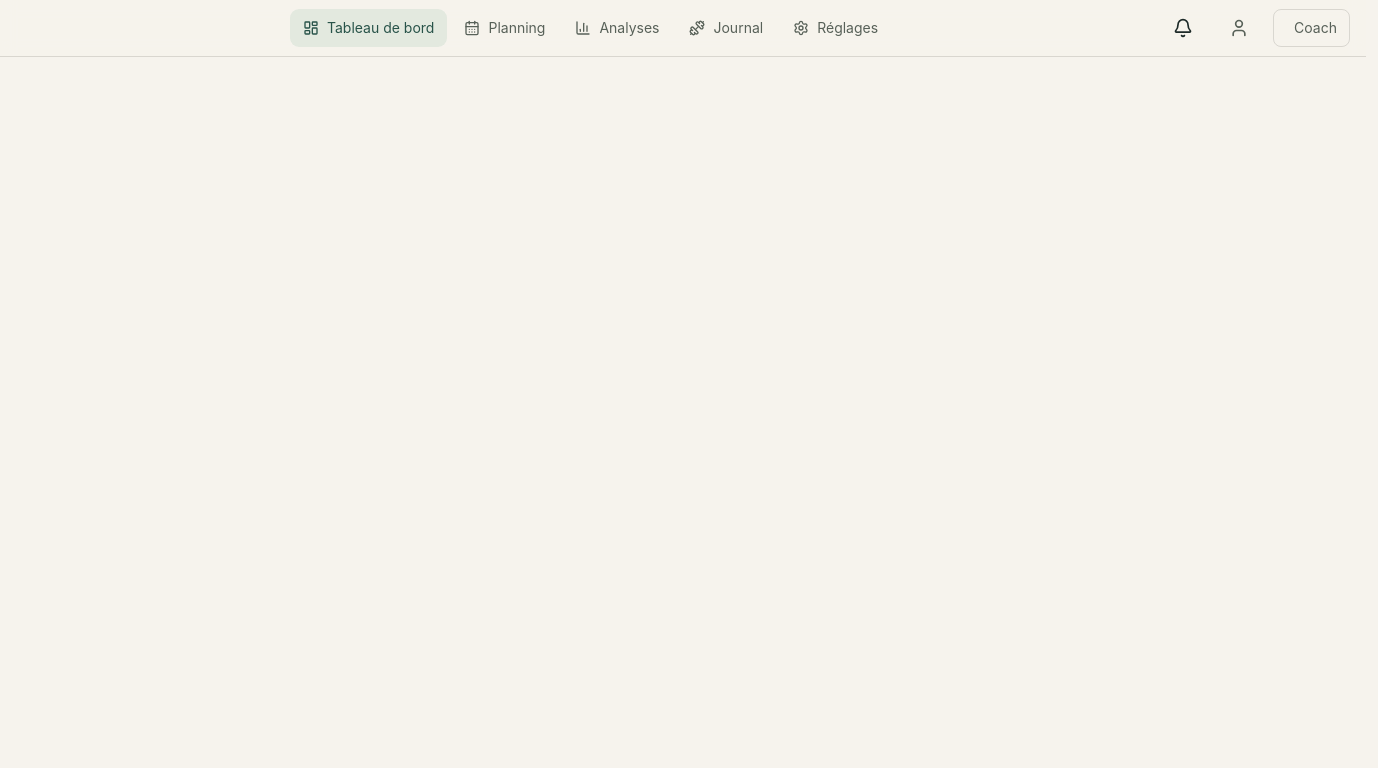
Test: asks the same question again on retry, without the failed answer
This screenshot has width=1378, height=768.
Click the button with aria-label "Ouvrir le coach": (1312, 28) [1273,9,1350,47]
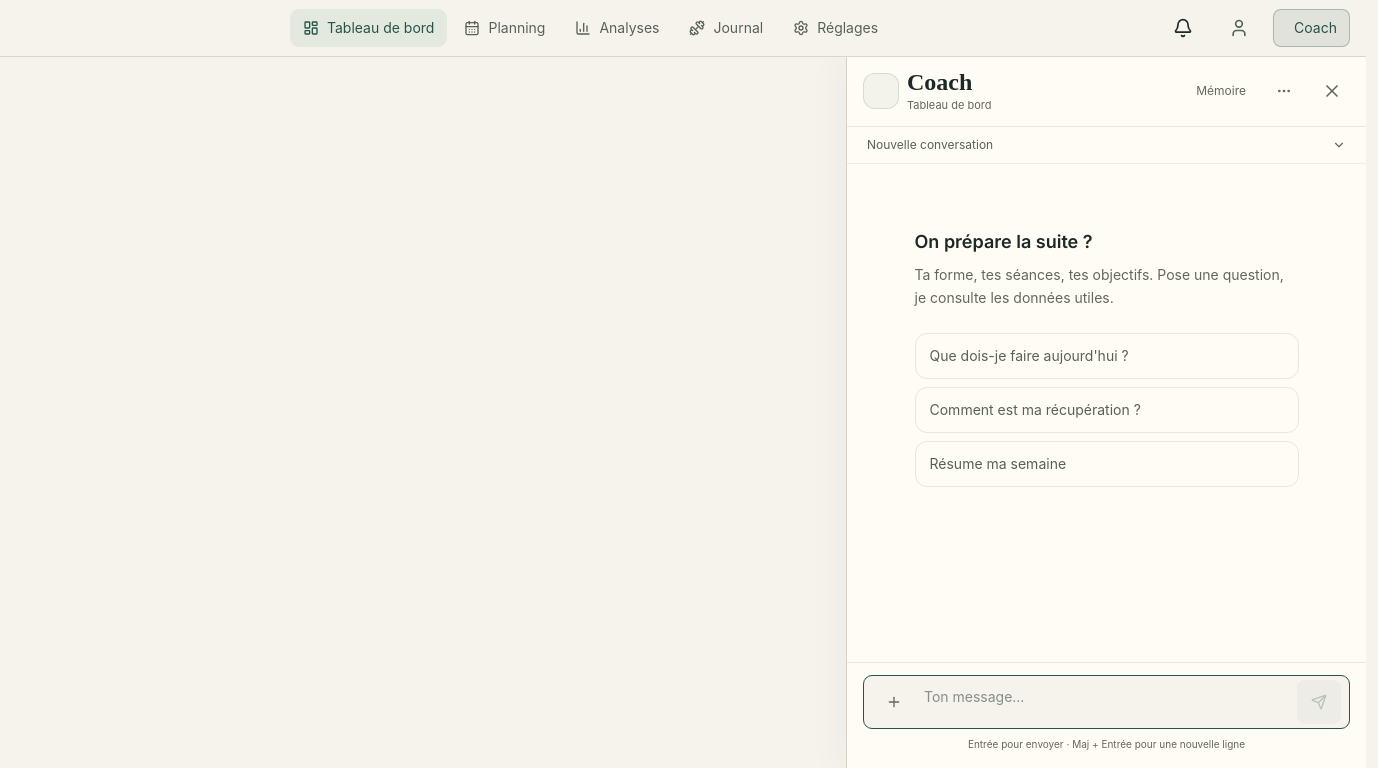
In the text box named "Message au coach": (1104, 702) [920,680,1289,724], type "Ma forme ?"
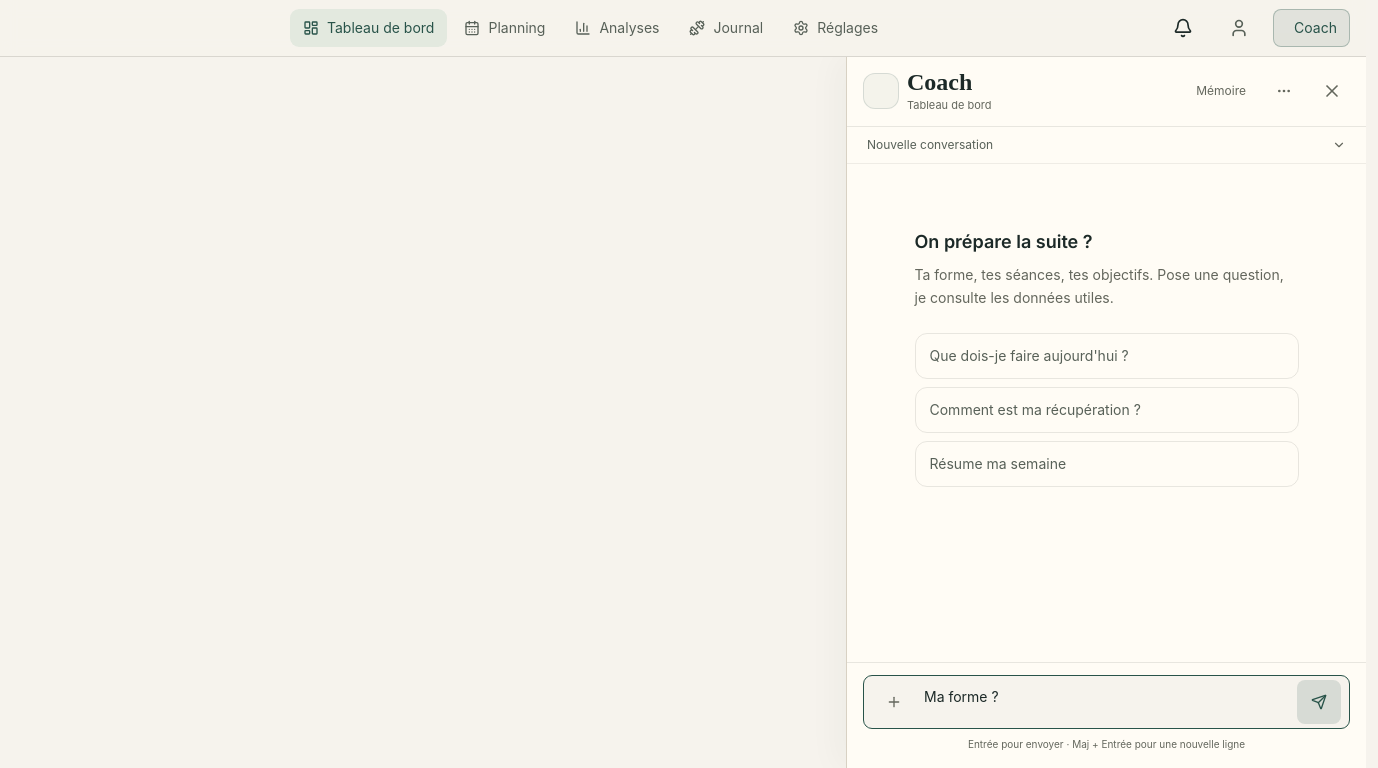
Click the button named "Envoyer": (1319, 702) [1297,680,1341,724]
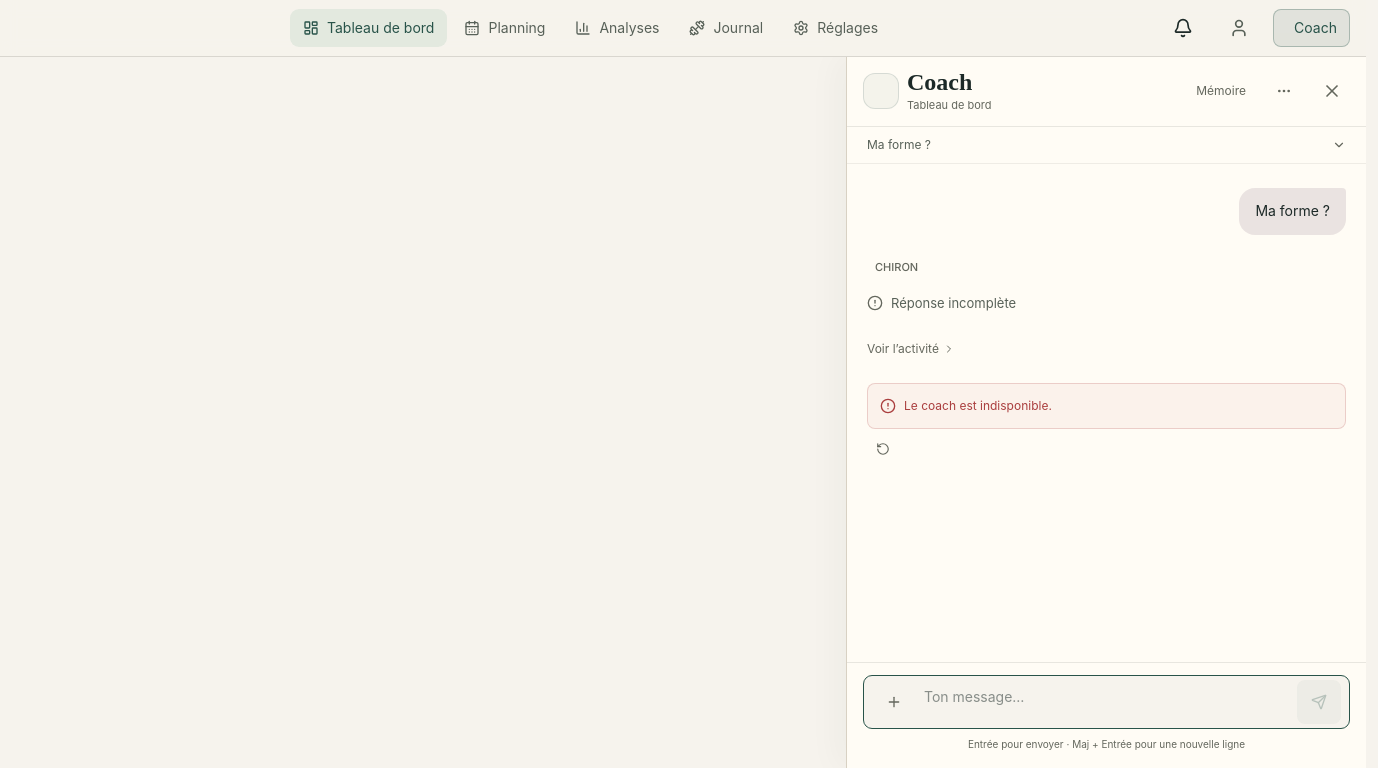
Click the button named "Réessayer": (883, 449) [867,433,899,465]
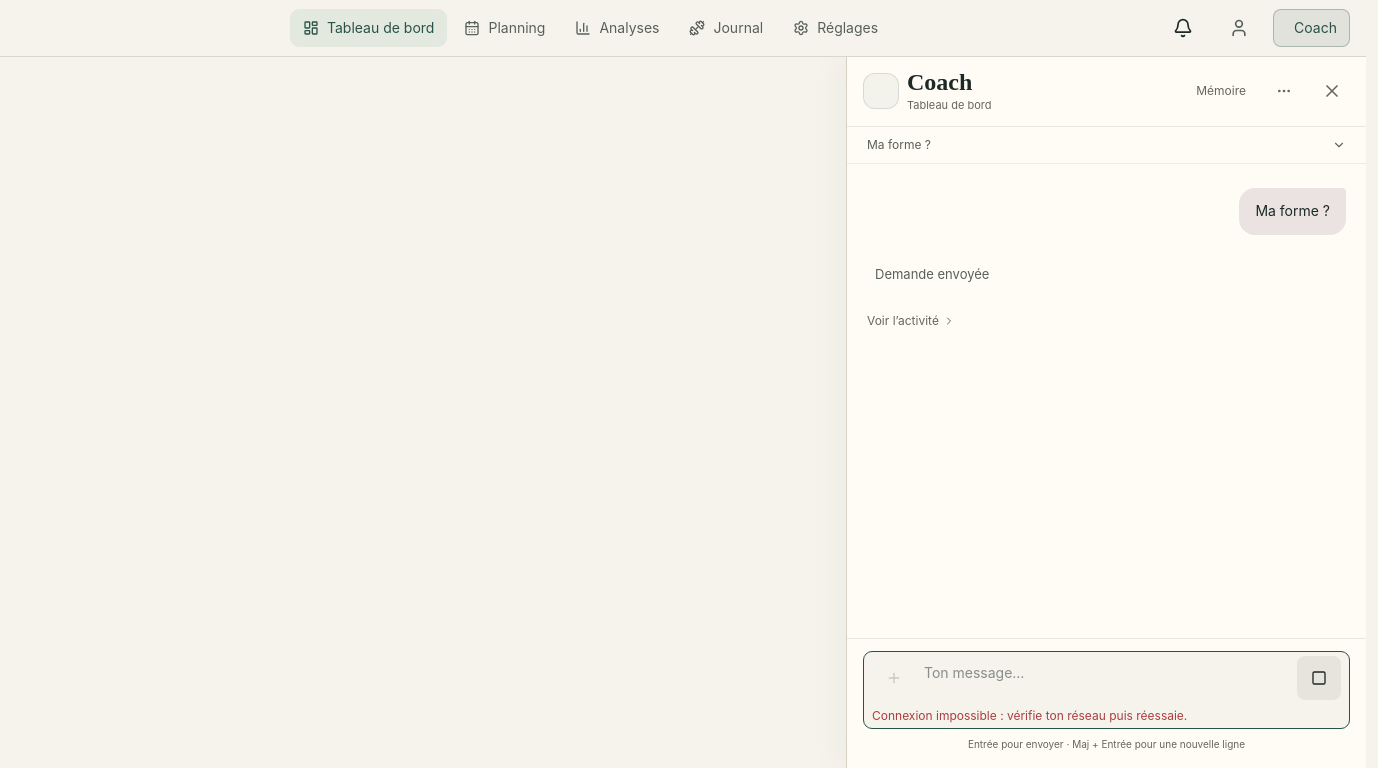
Now the number of elements named "Ton message" is 1, box [1239,188,1346,235]
Now the text "Le coach est indisponible." is gone
